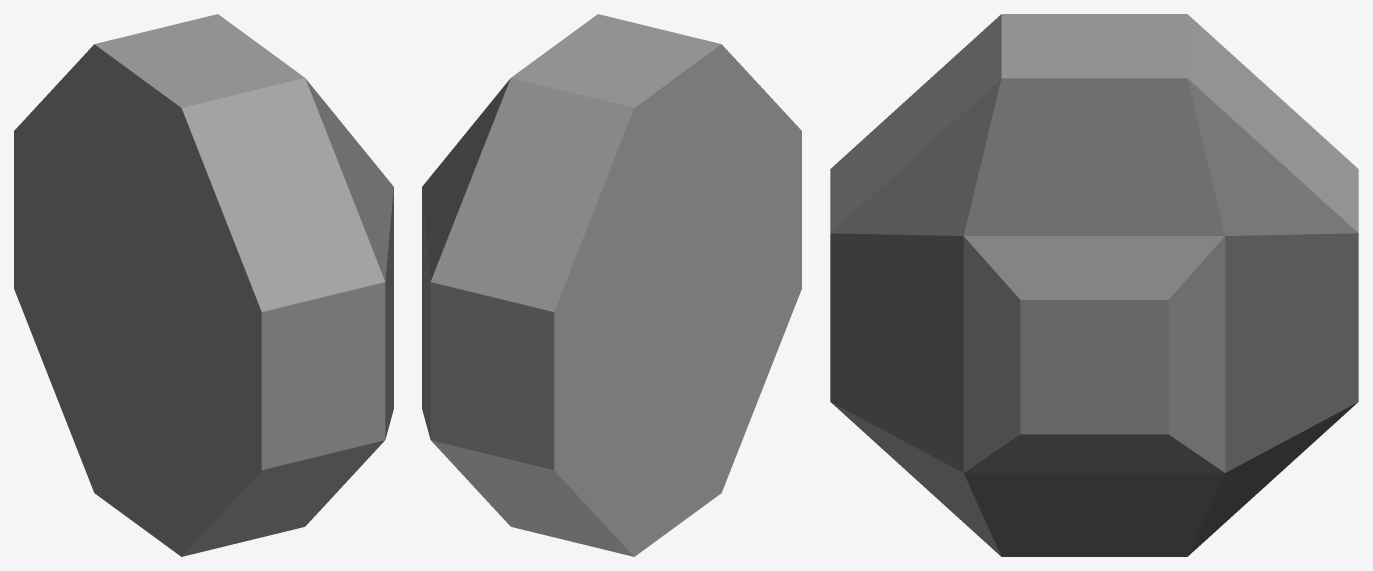
Rendered from TurelPod.fbx.
3 views of the same model, side by side, from view 1: azimuth 30°, elevation 25°; view 2: azimuth 150°, elevation 25°; view 3: azimuth 270°, elevation 25° (orthographic). The views are drawn at different scales.
Visible parts, largest first — view 1: TureliPod; view 2: TureliPod; view 3: TureliPod.
Part boxes in pixels (x1=…): TureliPod: x1=14, y1=14, x2=393, y2=556; TureliPod: x1=422, y1=14, x2=801, y2=556; TureliPod: x1=830, y1=14, x2=1358, y2=556.
Size of the model in its own units: 23.41 by 45.92 by 45.92.
